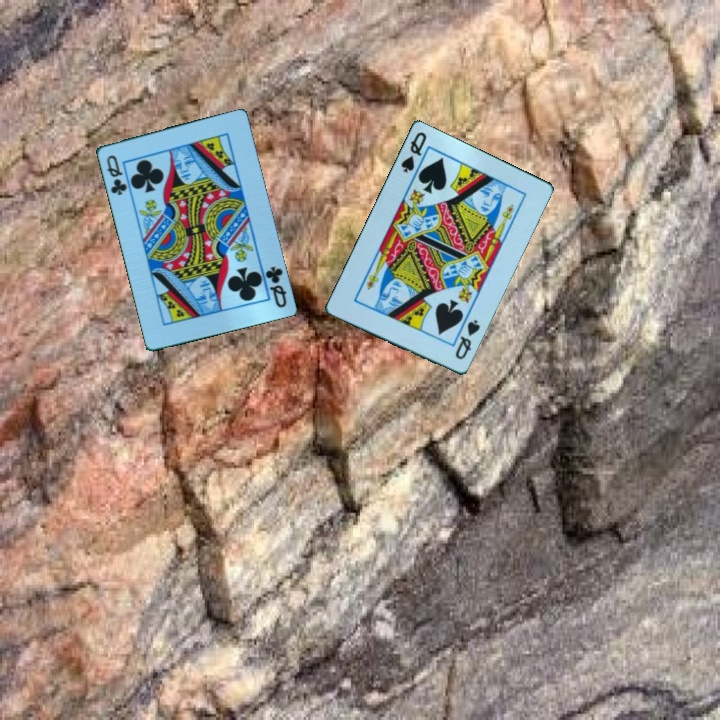Qc: (262, 262, 290, 311), (103, 151, 130, 198)
Qs: (397, 129, 430, 176), (452, 317, 483, 363)
